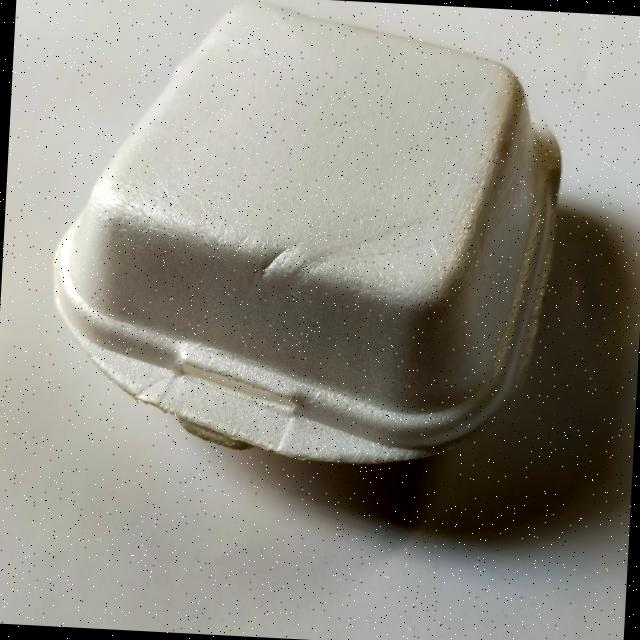styrofoam: (42, 0, 572, 476)
